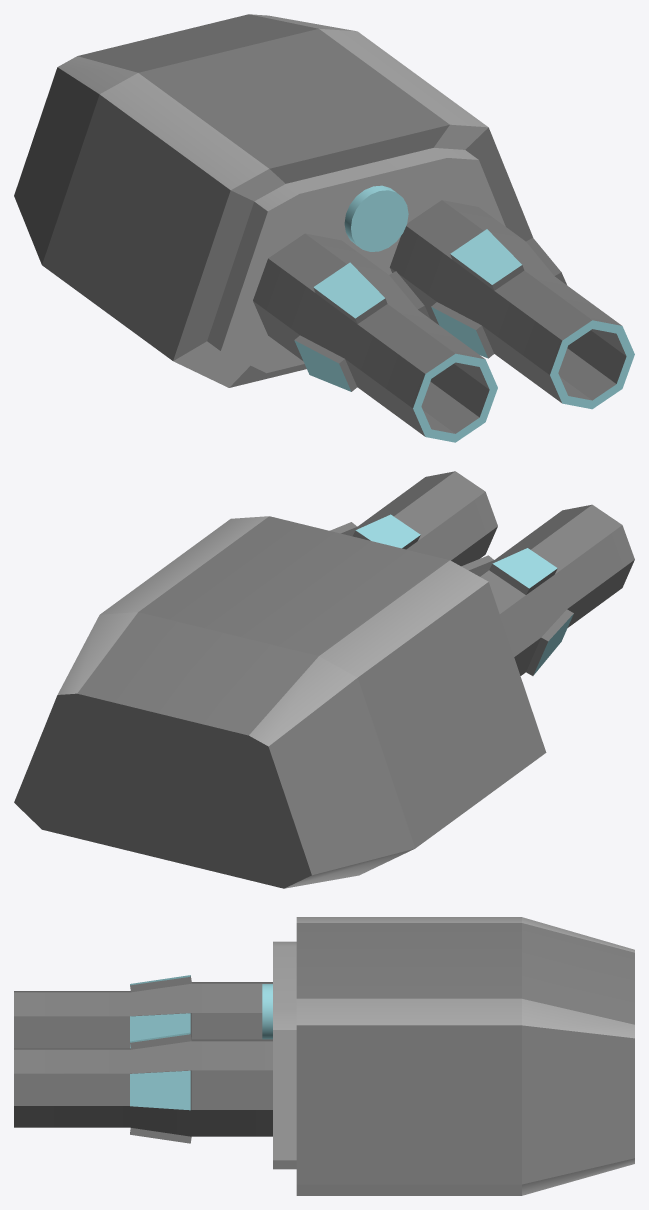
File: CannonToerHead.fbx
3 views of the same model, one above another, from view 1: azimuth 30°, elevation 25°; view 2: azimuth 150°, elevation 25°; view 3: azimuth 270°, elevation 25° (orthographic). The views are drawn at different scales.
Visible parts, largest first — view 1: cannontowerhead; view 2: cannontowerhead; view 3: cannontowerhead.
Part boxes in pixels (left/top/right/bottom): cannontowerhead: left=14, top=14, right=634, bottom=442; cannontowerhead: left=14, top=471, right=634, bottom=888; cannontowerhead: left=14, top=917, right=634, bottom=1195.
Size of the model in its own units: 3.71 by 1.99 by 6.21.
